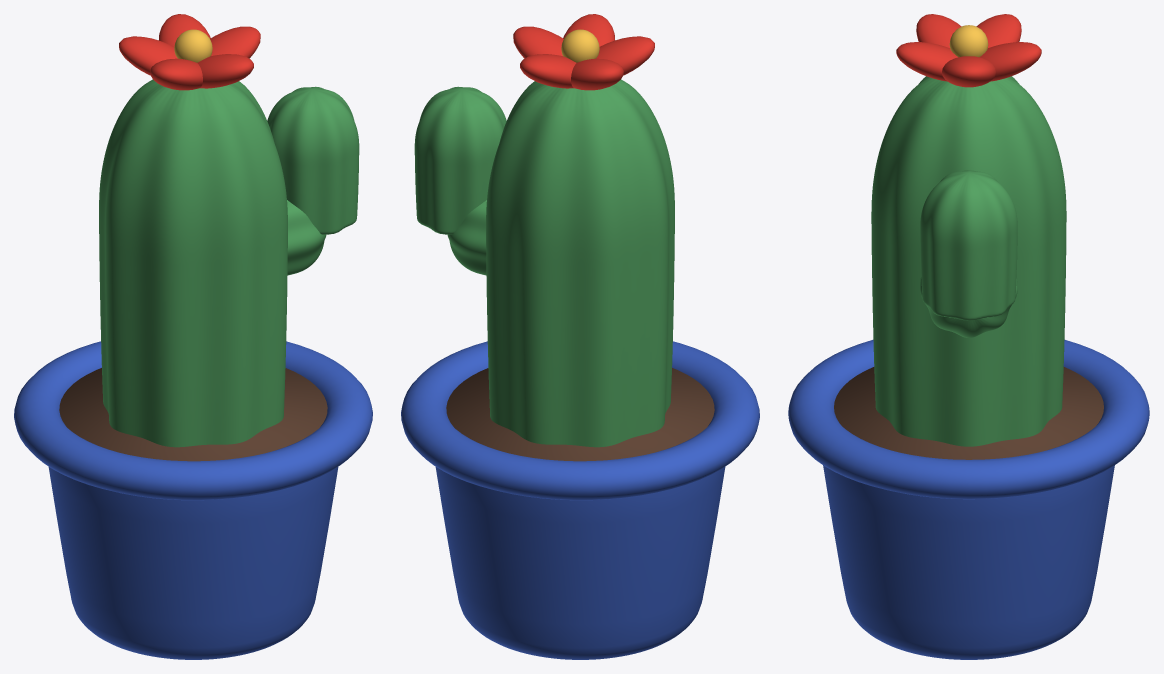
The model's file is cactus.glb.
The picture shows the model from 3 angles, left to right: view 1: azimuth 30°, elevation 25°; view 2: azimuth 150°, elevation 25°; view 3: azimuth 270°, elevation 25°; orthographic projection.
Visible parts, largest first — view 1: CactusBody, Pot, PotRim, CactusArmUp, Soil, CactusArmStub, Petal.4, Petal.2, Petal.3, Petal.0, Pollen, Petal.1; view 2: CactusBody, Pot, PotRim, CactusArmUp, Soil, CactusArmStub, Petal.1, Petal.3, Petal.2, Petal.0, Pollen, Petal.4; view 3: CactusBody, Pot, PotRim, CactusArmUp, Soil, Petal.1, Petal.4, Petal.0, CactusArmStub, Petal.2, Petal.3, Pollen.
Part boxes in pixels (bbox=[...]): CactusBody: bbox=[99, 79, 287, 447]; Pot: bbox=[48, 467, 338, 659]; PotRim: bbox=[14, 341, 372, 500]; CactusArmUp: bbox=[267, 86, 359, 234]; Soil: bbox=[59, 368, 327, 461]; CactusArmStub: bbox=[287, 200, 326, 275]; Petal.4: bbox=[197, 54, 253, 88]; Petal.2: bbox=[119, 36, 177, 75]; Petal.3: bbox=[150, 58, 202, 90]; Petal.0: bbox=[210, 26, 260, 58]; Pollen: bbox=[174, 29, 212, 62]; Petal.1: bbox=[159, 14, 210, 46]; CactusBody: bbox=[486, 79, 674, 447]; Pot: bbox=[435, 467, 725, 659]; PotRim: bbox=[401, 341, 759, 500]; CactusArmUp: bbox=[414, 86, 506, 234]; Soil: bbox=[446, 368, 714, 461]; CactusArmStub: bbox=[447, 200, 486, 275]; Petal.1: bbox=[520, 54, 576, 88]; Petal.3: bbox=[596, 36, 654, 75]; Petal.2: bbox=[571, 58, 623, 90]; Petal.0: bbox=[513, 26, 563, 58]; Pollen: bbox=[561, 29, 599, 62]; Petal.4: bbox=[563, 14, 614, 46]; CactusBody: bbox=[871, 76, 1066, 446]; Pot: bbox=[823, 465, 1114, 659]; PotRim: bbox=[788, 340, 1149, 499]; CactusArmUp: bbox=[920, 170, 1017, 320]; Soil: bbox=[834, 367, 1103, 459]; Petal.1: bbox=[980, 42, 1041, 81]; Petal.4: bbox=[896, 42, 957, 81]; Petal.0: bbox=[942, 56, 995, 87]; CactusArmStub: bbox=[920, 277, 1017, 337]; Petal.2: bbox=[976, 14, 1021, 47]; Petal.3: bbox=[916, 14, 961, 47]; Pollen: bbox=[949, 25, 988, 57].
Bounding box in the file's own units: 0.1707 × 0.303 × 0.168.
